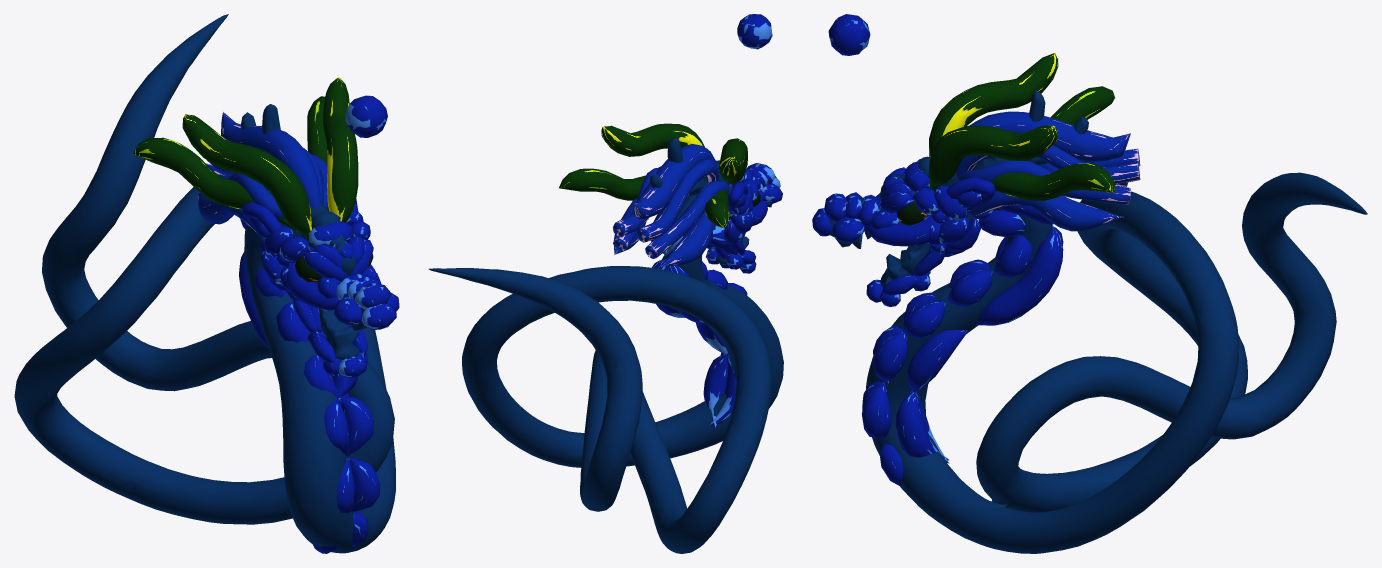
Rendered from seiryu_v02ar.glb.
The picture shows the model from 3 angles, left to right: view 1: azimuth 30°, elevation 25°; view 2: azimuth 150°, elevation 25°; view 3: azimuth 270°, elevation 25°; orthographic projection. The views are drawn at different scales.
Parts seen in each view (by area): view 1: 青龍テンプレ; view 2: 青龍テンプレ; view 3: 青龍テンプレ.
Part boxes in pixels (x1,y1,x2,y2): 青龍テンプレ: (14,14,399,553); 青龍テンプレ: (429,14,783,553); 青龍テンプレ: (812,14,1367,553).
Size of the model in its own units: 9.16 by 13.34 by 13.41.
1 material, 1 textured.
